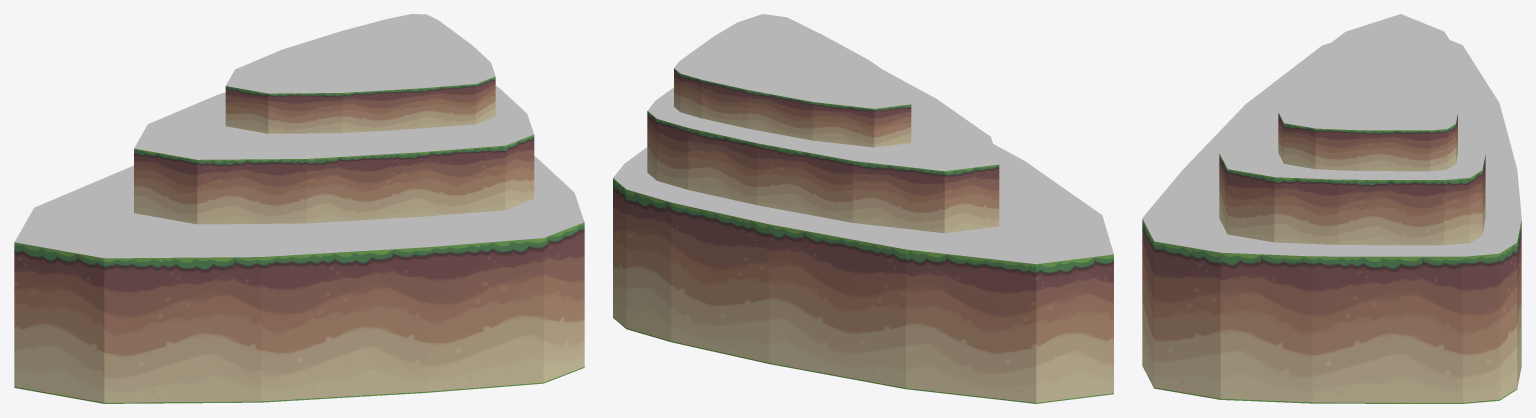
Rendered from LandMass1.fbx.
3 renders of one model, left to right at view 1: azimuth 30°, elevation 25°; view 2: azimuth 150°, elevation 25°; view 3: azimuth 270°, elevation 25°, orthographic. The views are drawn at different scales.
Parts seen in each view (by area): view 1: Circle.002; view 2: Circle.002; view 3: Circle.002.
Part boxes in pixels (x1,y1,x2,y2): Circle.002: (14,14,584,403); Circle.002: (613,14,1113,403); Circle.002: (1142,14,1521,403).
Size of the model in its own units: 303 by 151 by 206.
